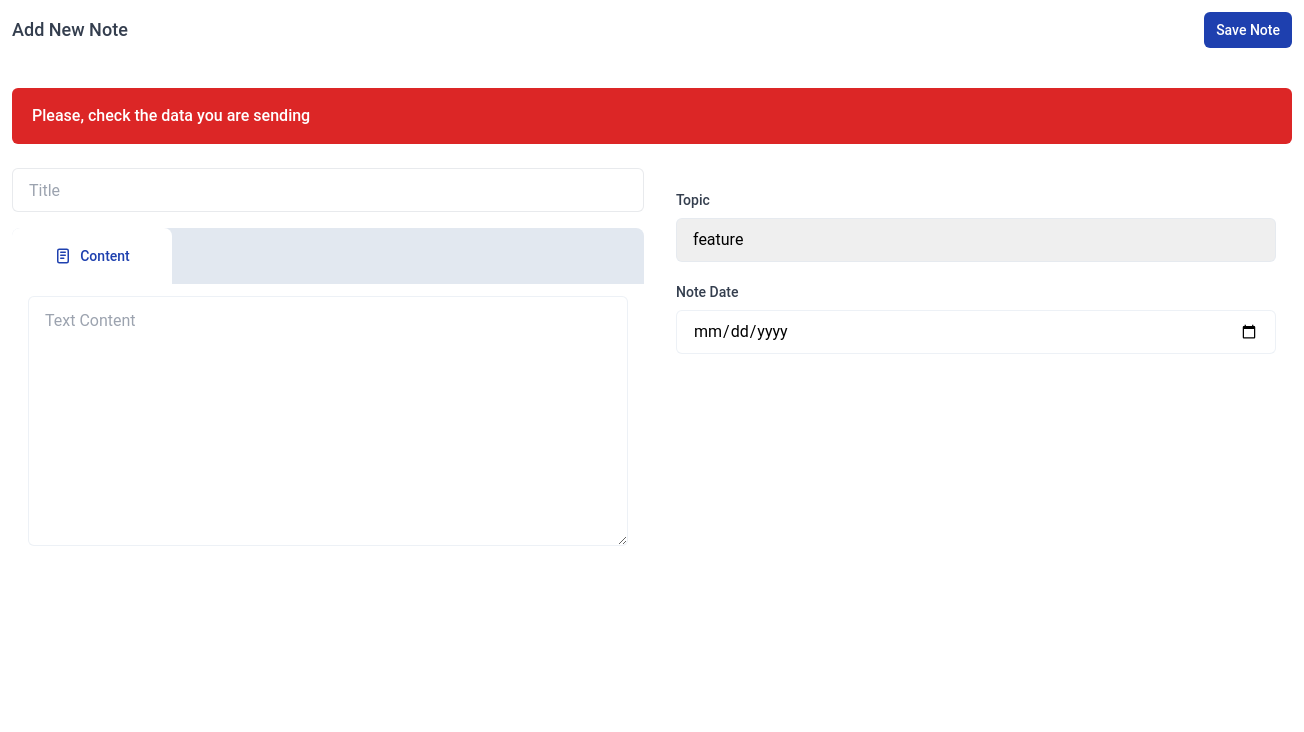
Test: AddNote › error adding a note › error banner should be visible API fails
In the field with placeholder "Title": (328, 190) [12,168,644,212], type "test"
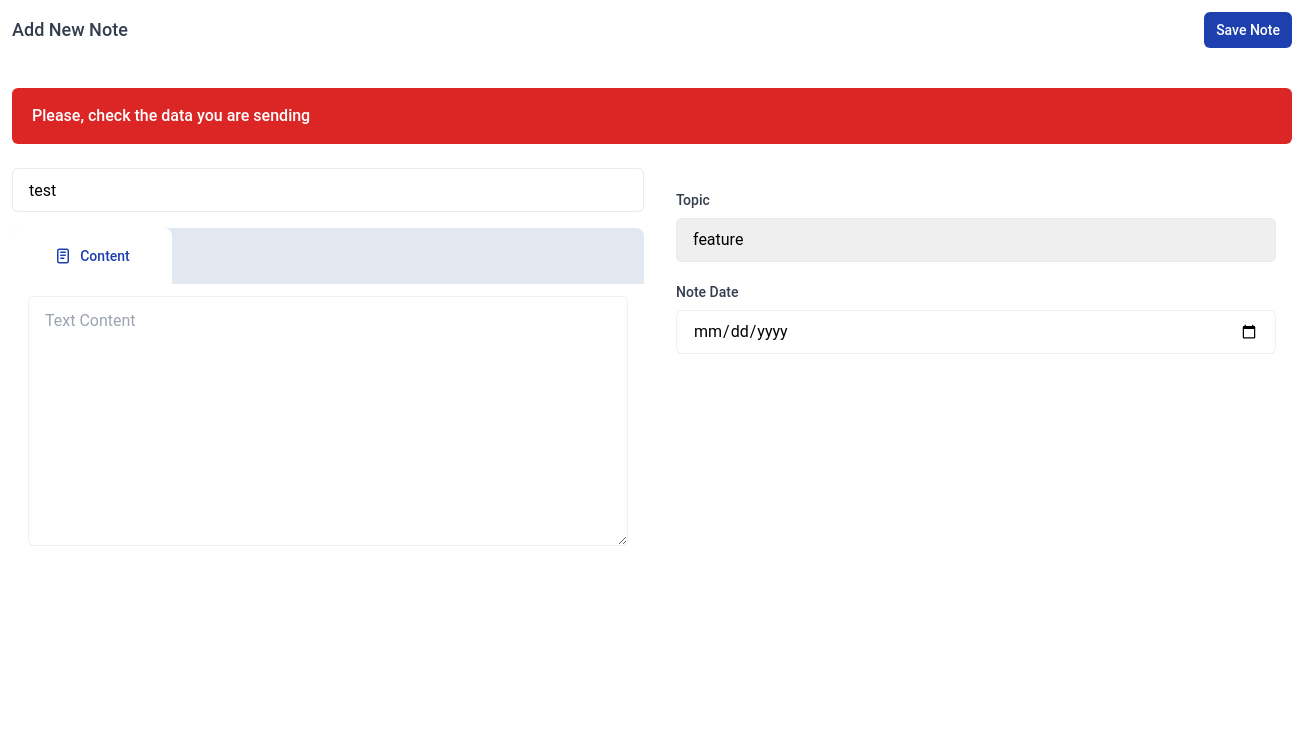
In the text box with placeholder "Text Content": (328, 421) [28,296,628,546], type "test"
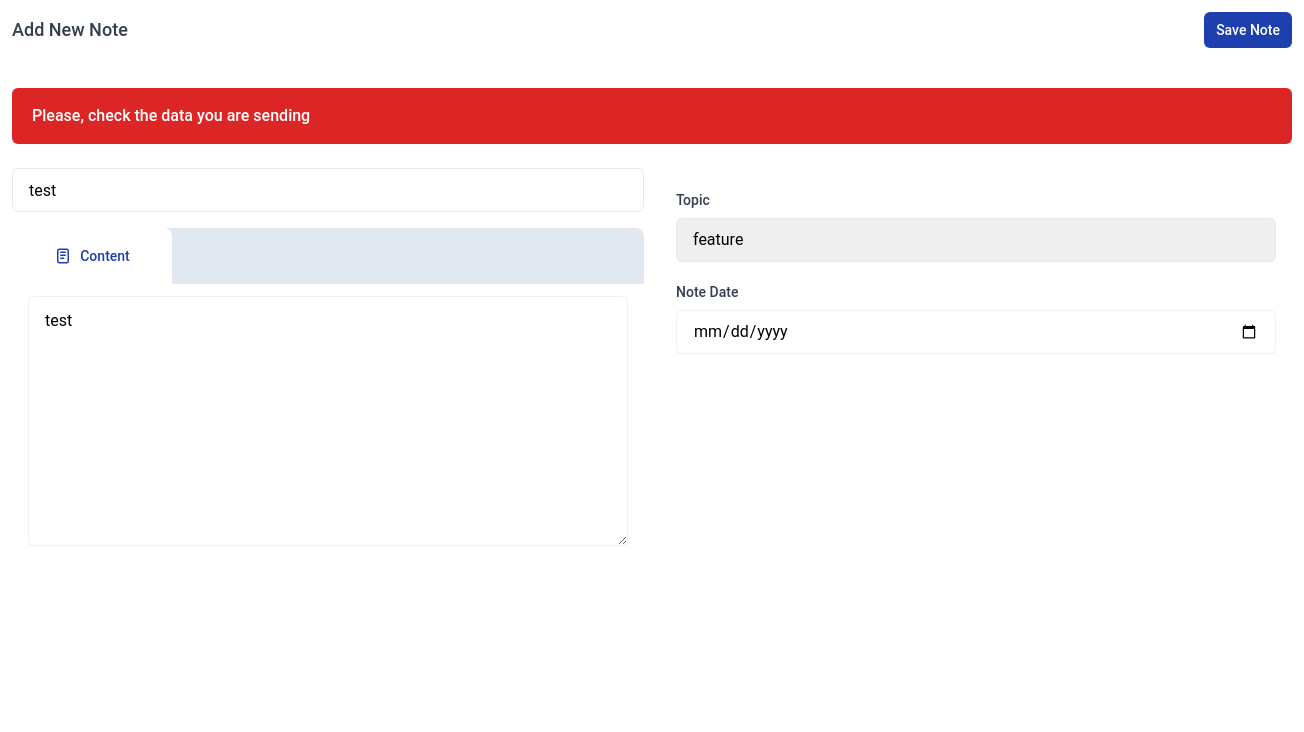
Select "test" in the dropdown: (976, 240) [676,218,1276,262]
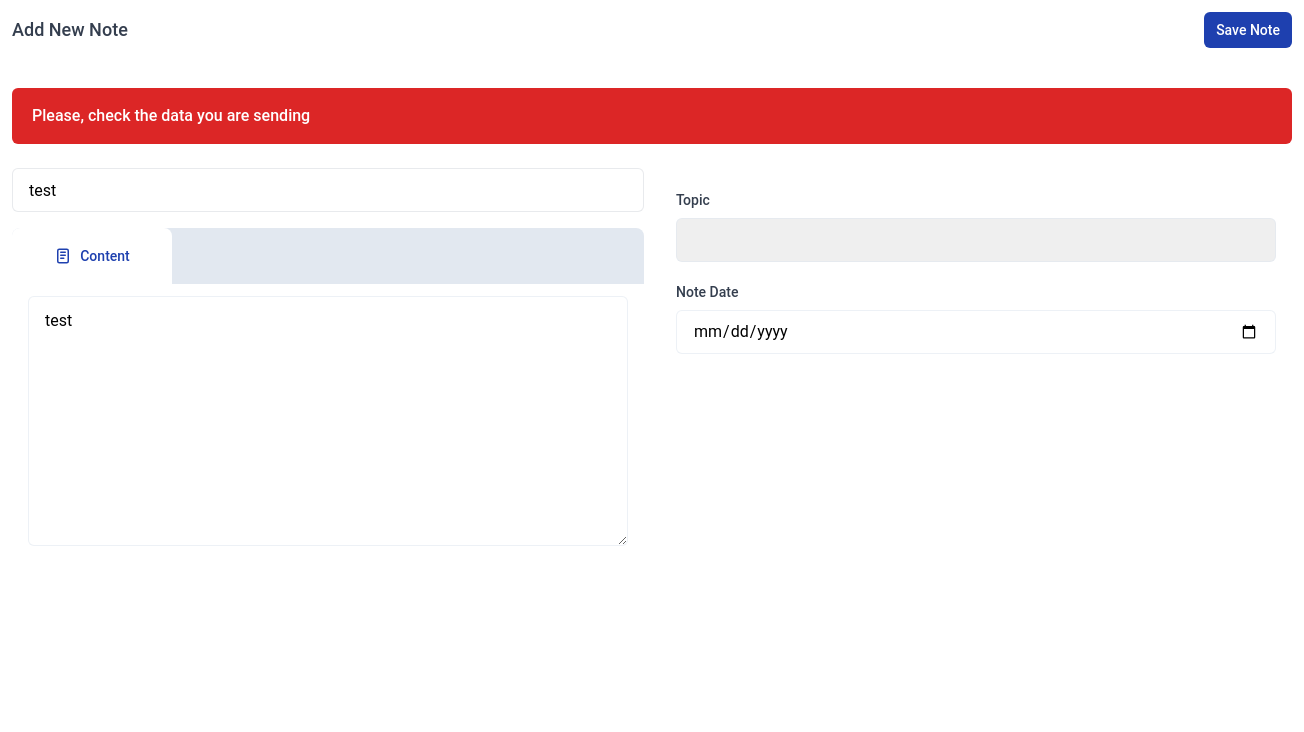
In the date field labelled "Date": (976, 332) [676,310,1276,354], type "2021-08-08"
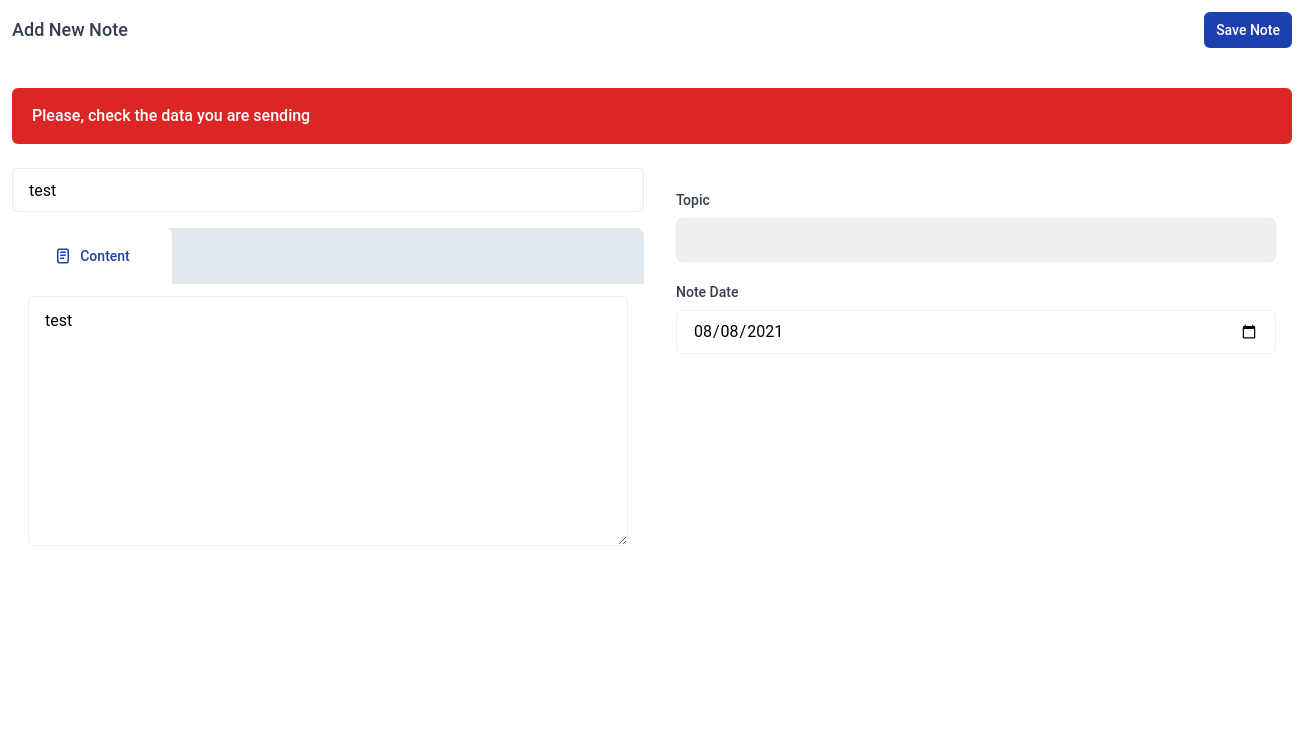
Click the button "Save Note": (1248, 30) [1204,12,1292,48]
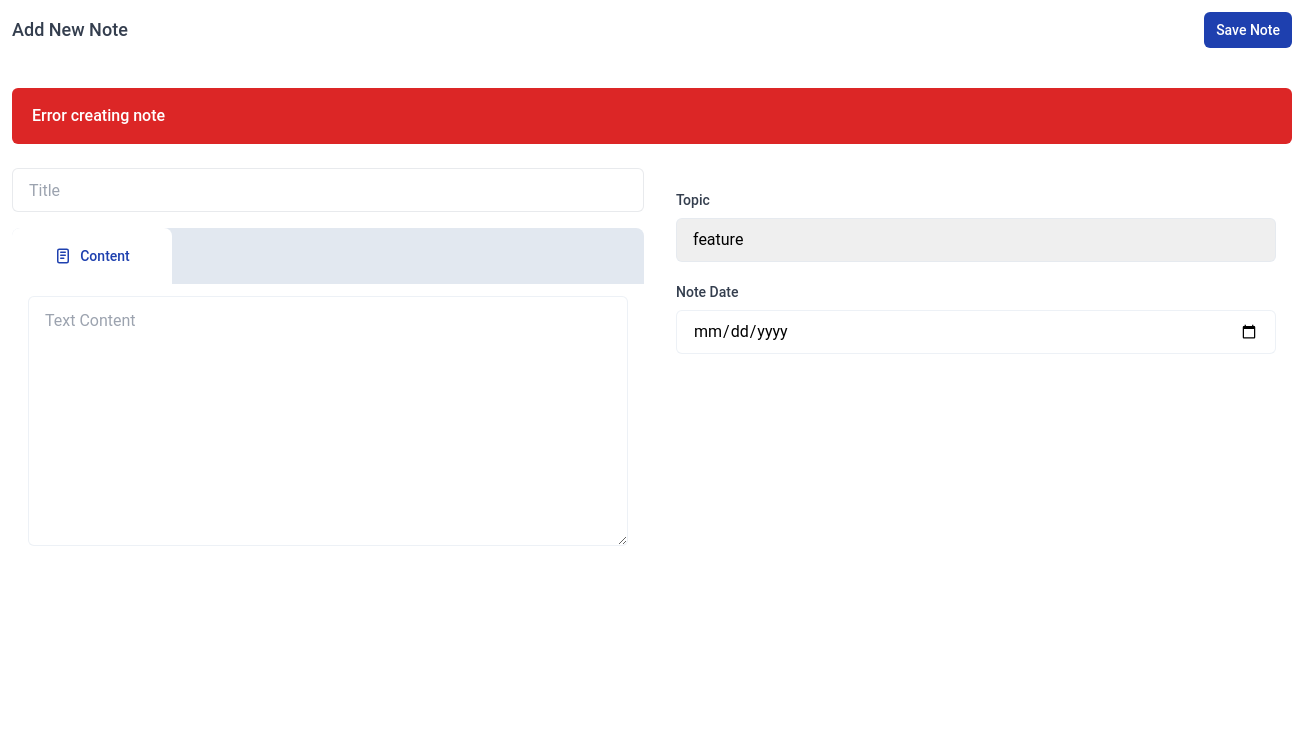
Check: the text "Error creating note" is shown, box [12,88,1292,144]
